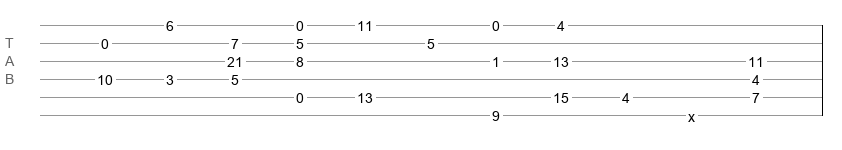0: (101, 36, 109, 46), (296, 90, 304, 100), (296, 18, 304, 28), (492, 18, 500, 28)
1: (492, 54, 500, 64)
10: (97, 72, 113, 82)
11: (357, 18, 373, 28), (748, 54, 764, 64)
13: (357, 90, 373, 100), (553, 54, 569, 64)
15: (553, 90, 569, 100)
21: (227, 54, 243, 64)
3: (166, 72, 174, 82)
4: (557, 18, 565, 28), (622, 90, 630, 100), (752, 72, 760, 82)
5: (231, 72, 239, 82), (296, 36, 304, 46), (427, 36, 435, 46)
6: (166, 18, 174, 28)
7: (231, 36, 239, 46), (752, 90, 760, 100)
8: (296, 54, 304, 64)
9: (492, 108, 500, 118)
x: (688, 109, 695, 117)
